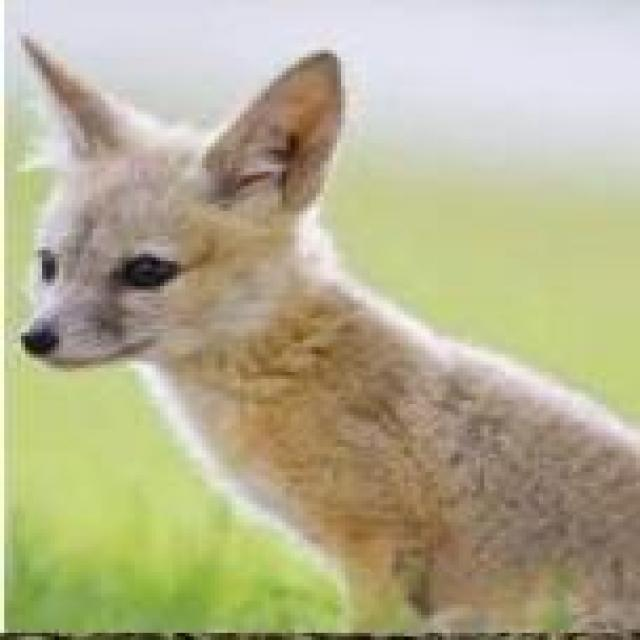Soldering shorted: (0, 22, 640, 630)
